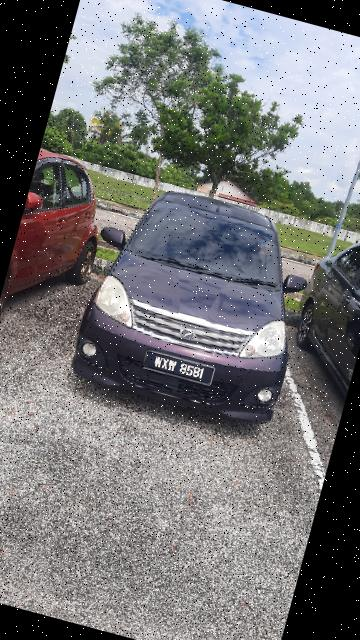License_Plate: (135, 340, 225, 394)
car: (52, 170, 340, 448)
